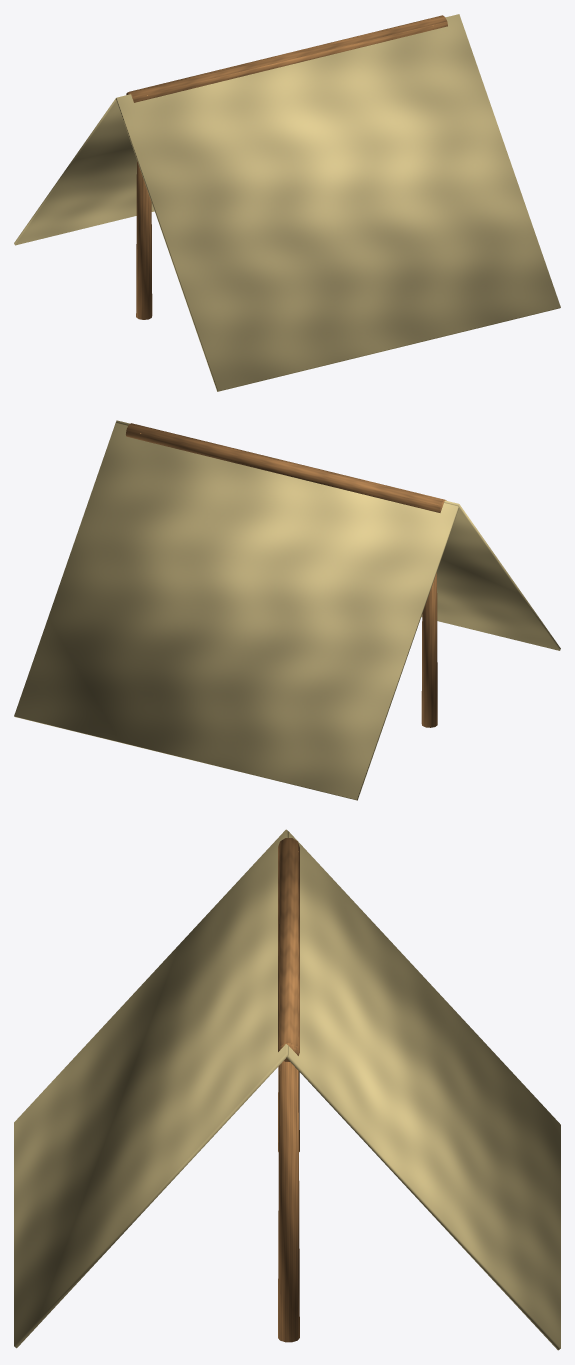
Rendered from camp_tent.glb.
3 renders of one model, top to bottom at view 1: azimuth 30°, elevation 25°; view 2: azimuth 150°, elevation 25°; view 3: azimuth 270°, elevation 25°, orthographic. The views are drawn at different scales.
Parts seen in each view (by area): view 1: camp_tent.001; view 2: camp_tent.001; view 3: camp_tent.001.
Boxes of the visible parts, x1,y1,x2,y2 form: camp_tent.001: [14, 14, 560, 391]; camp_tent.001: [14, 420, 560, 800]; camp_tent.001: [14, 829, 560, 1350].
Bounding box in the file's own units: 3.6 × 2.28 × 3.72.
Materials: 1 (1 with a texture image).
